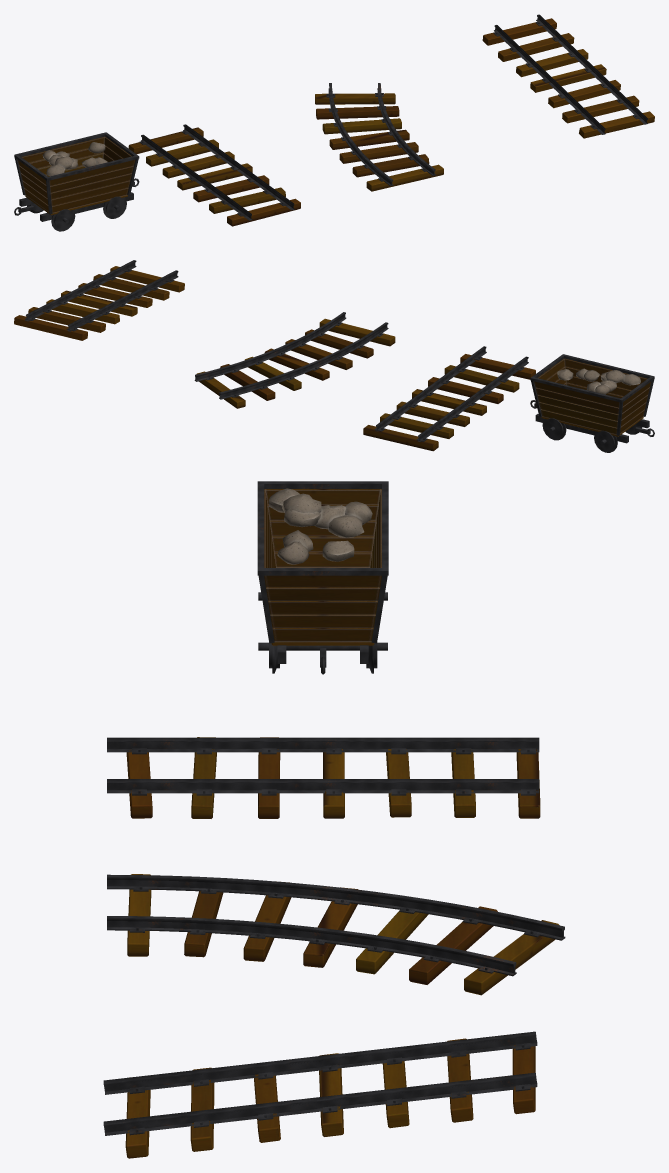
Rendered from CarrelloMiniera.fbx.
The picture shows the model from 3 angles, top to bottom: view 1: azimuth 30°, elevation 25°; view 2: azimuth 150°, elevation 25°; view 3: azimuth 270°, elevation 25°; orthographic projection. The views are drawn at different scales.
Parts seen in each view (by area): view 1: Binari_Legno, Binari_Ferro, Carrello_Legno, Carrello_Ferro, Carrello_Minerale; view 2: Binari_Legno, Binari_Ferro, Carrello_Legno, Carrello_Ferro, Carrello_Minerale; view 3: Binari_Ferro, Binari_Legno, Carrello_Legno, Carrello_Ferro, Carrello_Minerale.
Part boxes in pixels (box(x1,y1,x2,y2)): Binari_Legno: box(128, 18, 654, 226); Binari_Ferro: box(139, 14, 647, 220); Carrello_Legno: box(17, 136, 135, 215); Carrello_Ferro: box(14, 132, 139, 231); Carrello_Minerale: box(42, 142, 107, 176); Binari_Legno: box(14, 266, 535, 451); Binari_Ferro: box(25, 260, 528, 441); Carrello_Legno: box(534, 358, 651, 436); Carrello_Ferro: box(530, 354, 654, 452); Carrello_Minerale: box(557, 368, 640, 394); Binari_Ferro: box(103, 737, 565, 1135); Binari_Legno: box(125, 737, 559, 1158); Carrello_Legno: box(264, 489, 381, 645); Carrello_Ferro: box(257, 481, 388, 674); Carrello_Minerale: box(268, 488, 372, 564).
Size of the model in its own units: 1261 by 137 by 427.
